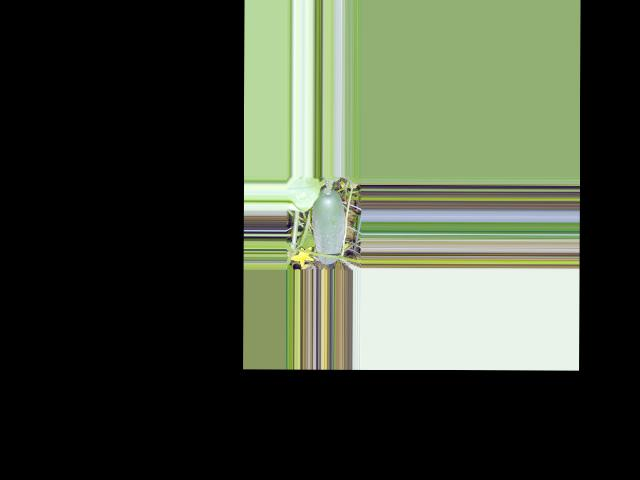cucumber: (312, 187, 345, 263)
